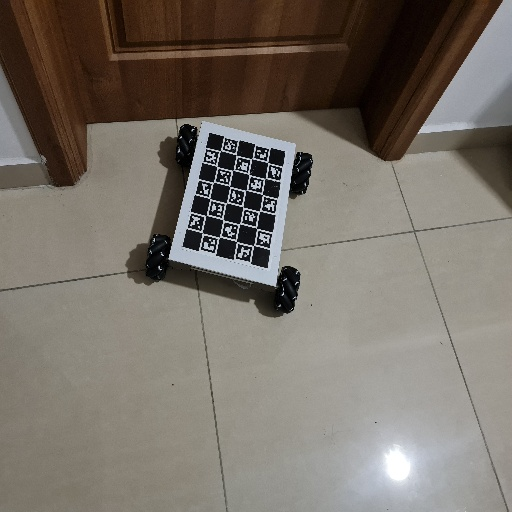Omniwheel: (144, 120, 317, 317)
